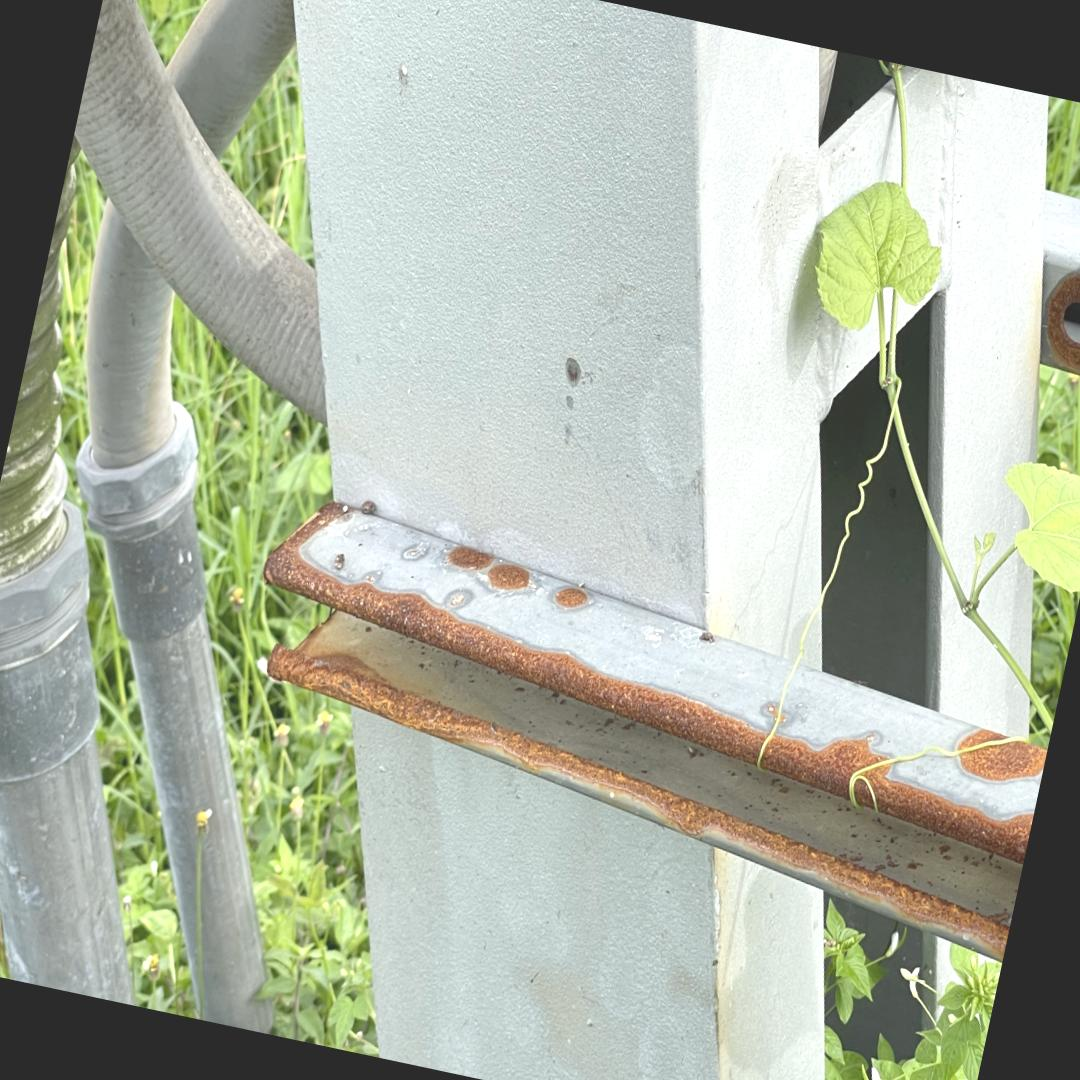Metal: (165, 0, 1055, 742), (265, 499, 1047, 863), (349, 715, 829, 1080)
Metal corroido: (260, 504, 1034, 864), (268, 608, 1010, 958), (958, 741, 1047, 781), (447, 545, 494, 570), (958, 728, 1009, 751), (487, 564, 530, 589), (556, 588, 589, 607), (766, 705, 778, 721), (778, 713, 788, 723)
